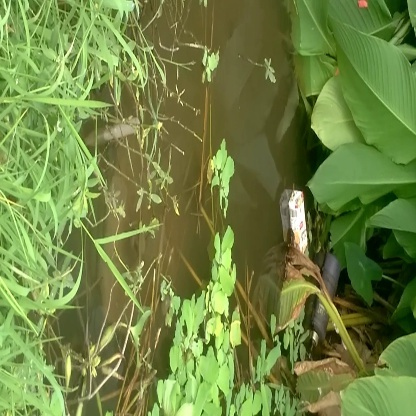bottle: (309, 252, 348, 351)
milk-box: (276, 185, 315, 258)
